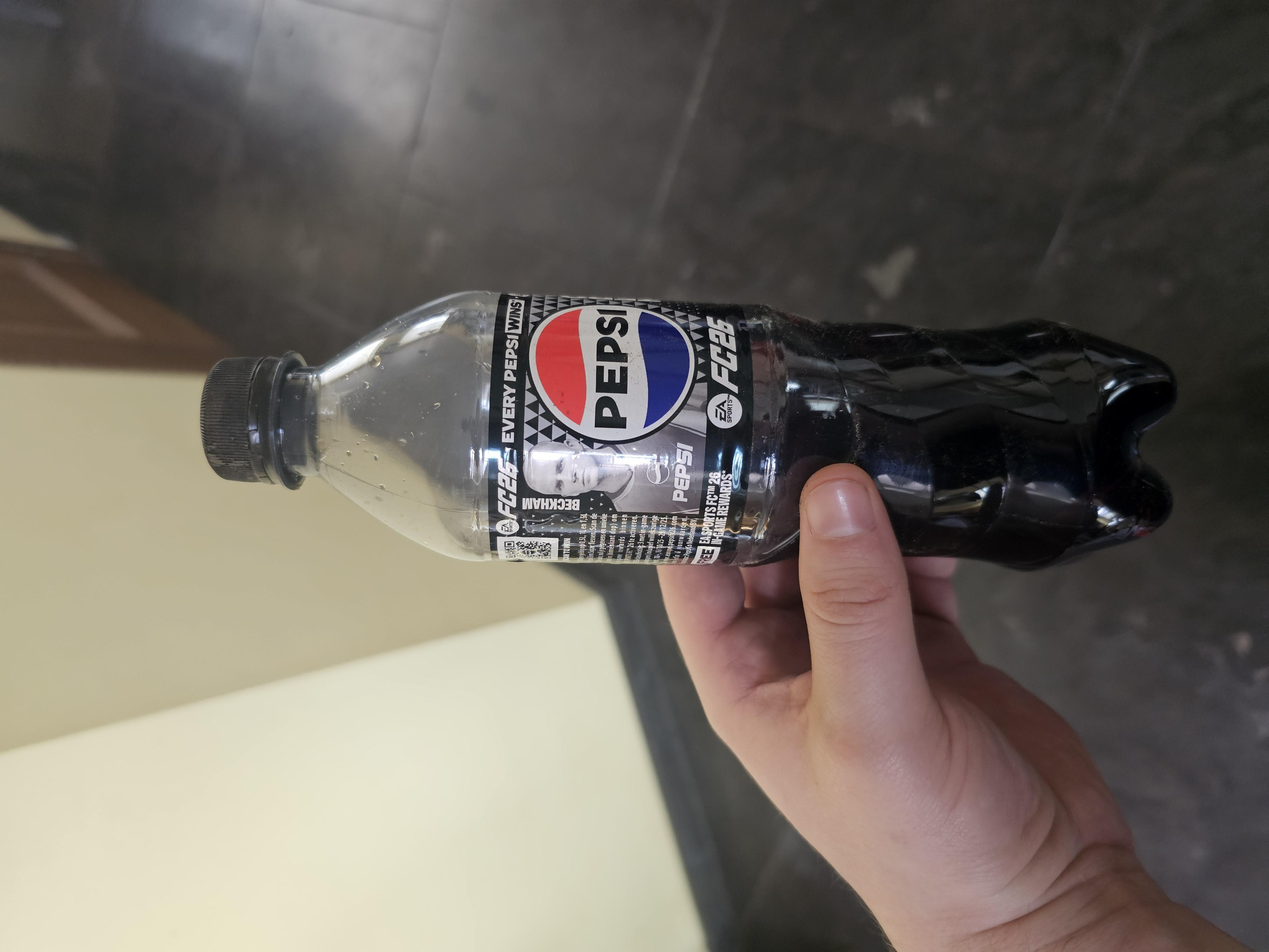Plastic: (505, 142, 891, 893)
